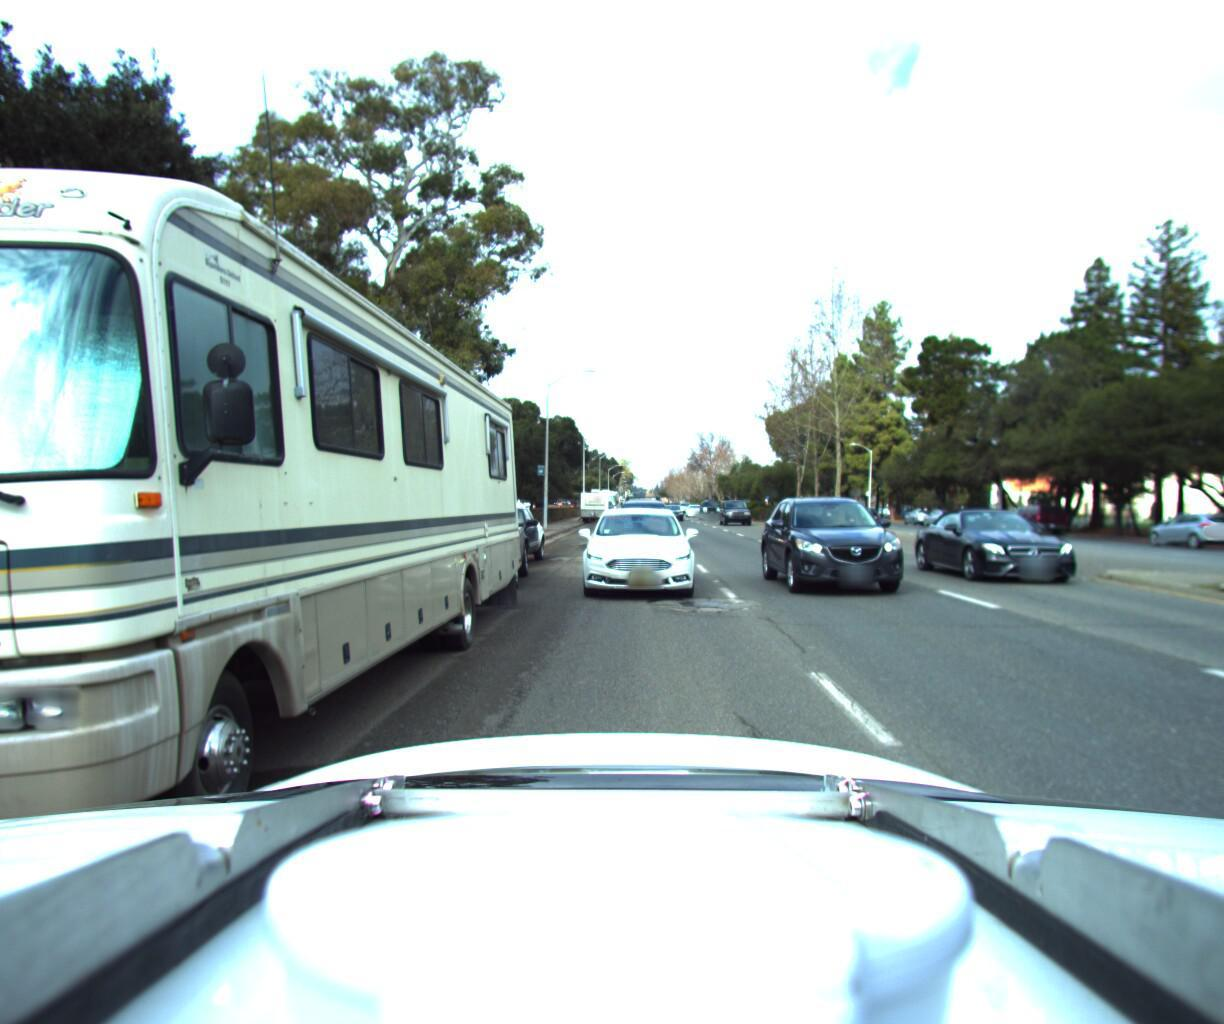car: (759, 485, 959, 607), (927, 493, 1130, 589), (403, 489, 534, 596), (577, 492, 698, 602), (450, 499, 551, 575), (1118, 503, 1224, 543), (616, 488, 670, 537), (997, 495, 1070, 530), (719, 494, 757, 520), (919, 501, 964, 522), (900, 501, 938, 521), (700, 493, 728, 513), (660, 497, 685, 518)
other_vehicle: (576, 483, 611, 516)
